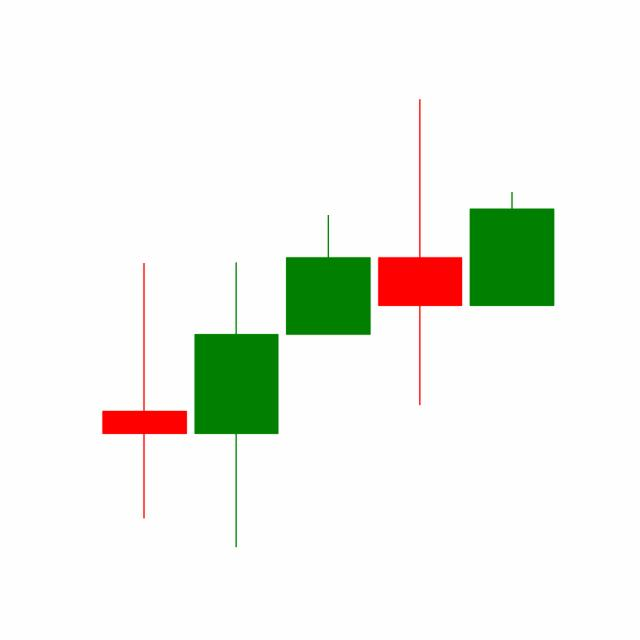Marubozu: (464, 190, 558, 306)
